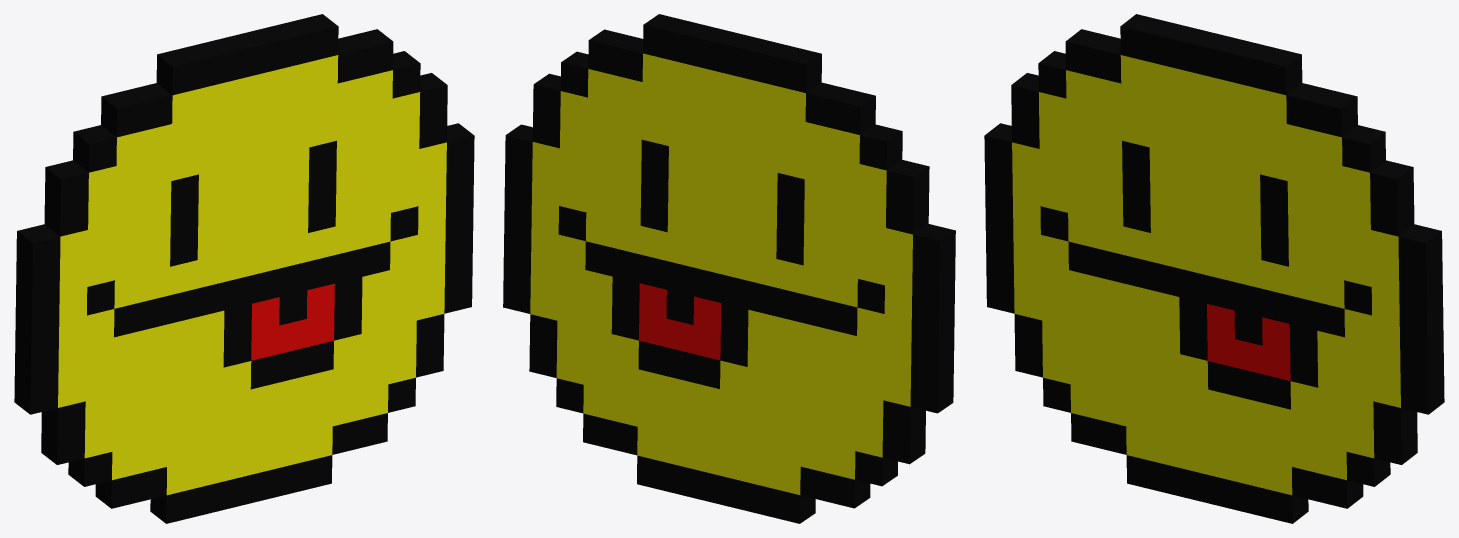
File: smiley.gltf
3 renders of one model, left to right at view 1: azimuth 30°, elevation 25°; view 2: azimuth 150°, elevation 25°; view 3: azimuth 330°, elevation 25°, orthographic.
Bounding box in the file's own units: 16 × 16.02 × 1.42.
